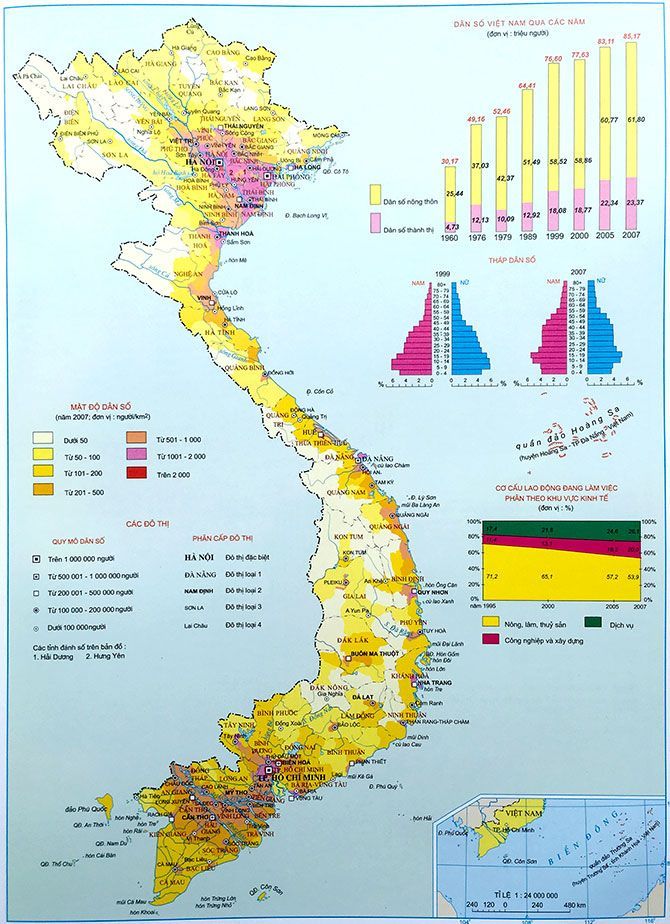Island: (505, 395, 638, 465), (573, 806, 663, 881)
